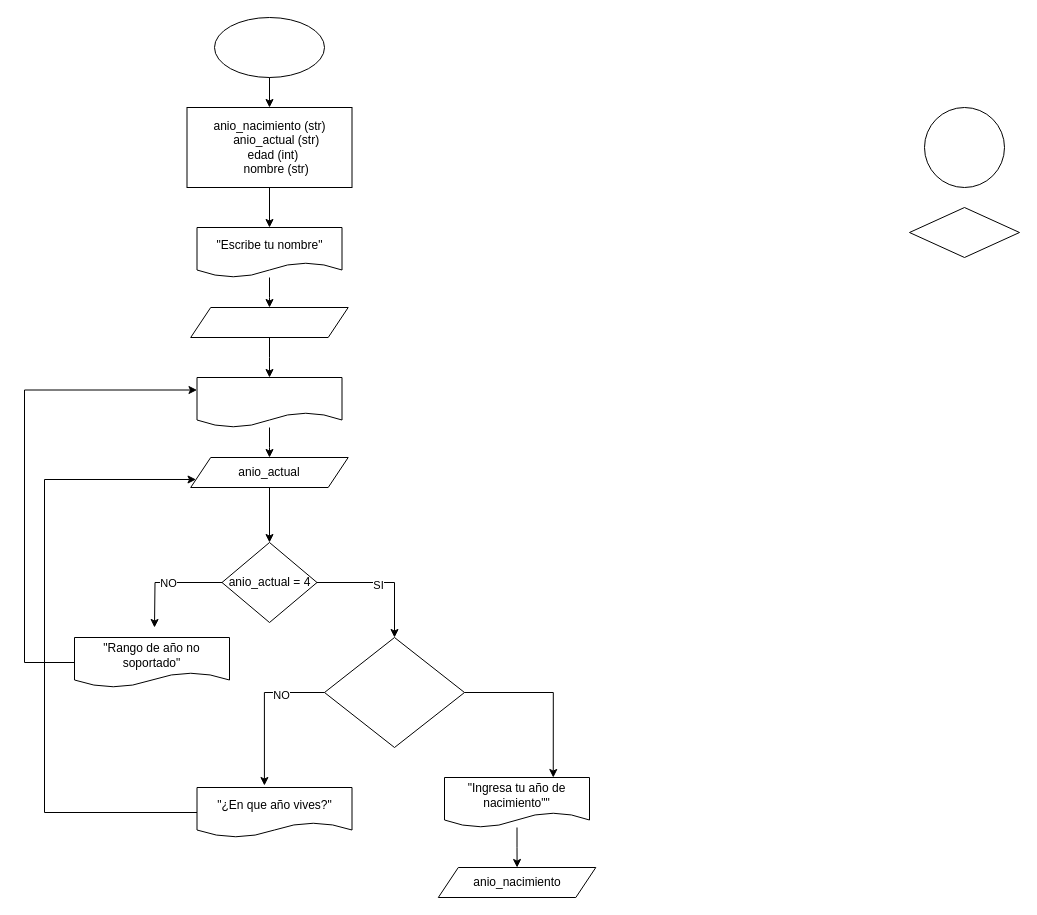
Image size: 1037x915. Some labels were removed from this diagram. Each missing label, with the box of its shape:
"Ingresa año actual": (196, 376, 342, 428)
anio_actual < 2030 y > 2023: (324, 636, 464, 748)
INICIO: (214, 16, 324, 78)
nombre: (190, 306, 348, 338)
